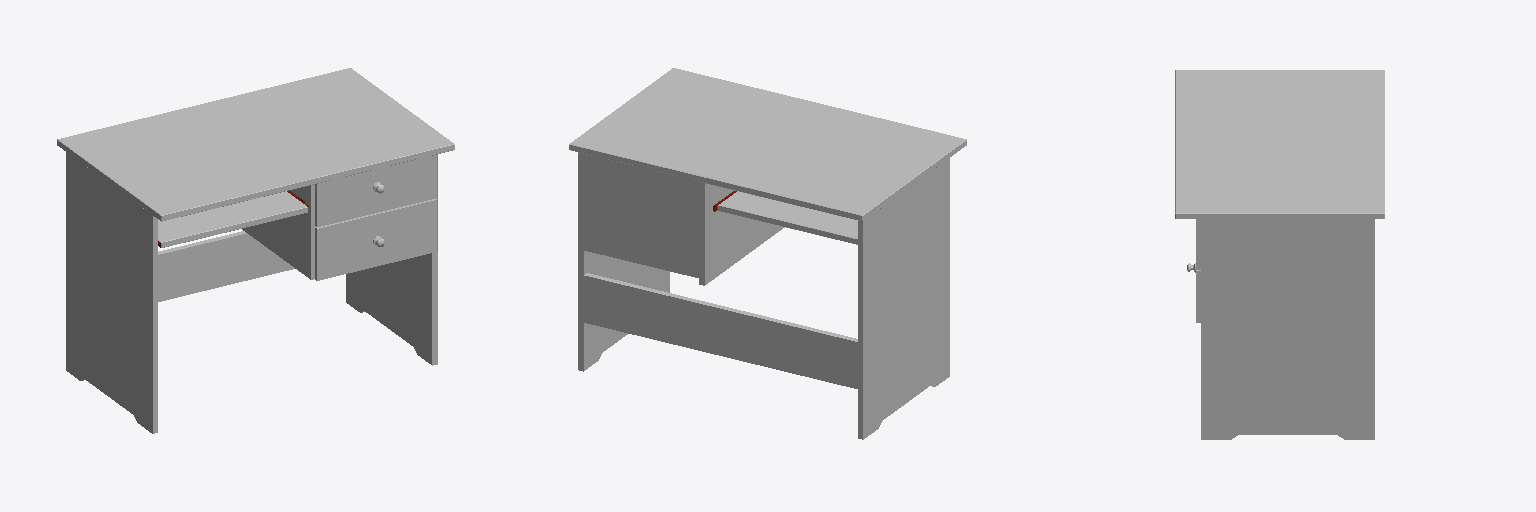
The model's file is deskRoom.obj.
3 views of the same model, side by side, from view 1: azimuth 30°, elevation 25°; view 2: azimuth 150°, elevation 25°; view 3: azimuth 270°, elevation 25° (orthographic).
Parts seen in each view (by area): view 1: table_Cube, Cube.002, Cube.001, suf_Cube.005; view 2: table_Cube, suf_Cube.005; view 3: table_Cube.
Part boxes in pixels (x1,y1,x2,y2): table_Cube: (57, 68, 454, 433); Cube.002: (315, 199, 437, 280); Cube.001: (315, 154, 437, 226); suf_Cube.005: (158, 191, 307, 247); table_Cube: (569, 68, 966, 439); suf_Cube.005: (718, 191, 857, 244); table_Cube: (1175, 70, 1384, 439).
Bounding box in the file's own units: 100 × 74.64 × 61.84.